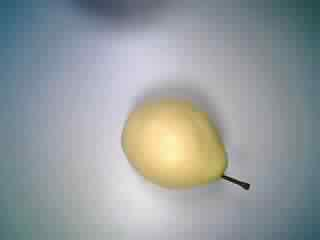pear: (105, 94, 260, 202)
